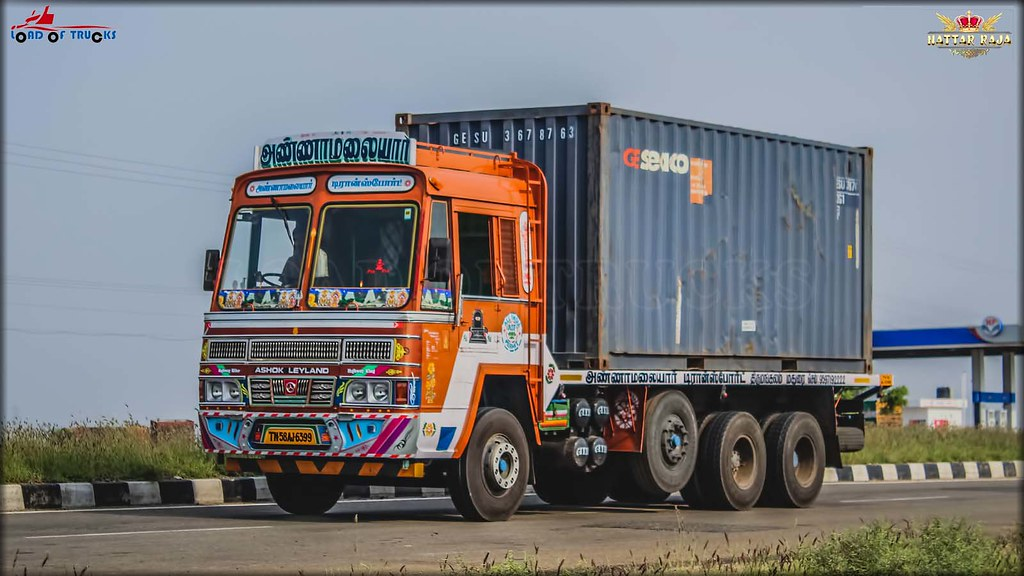truck: (140, 72, 913, 521)
